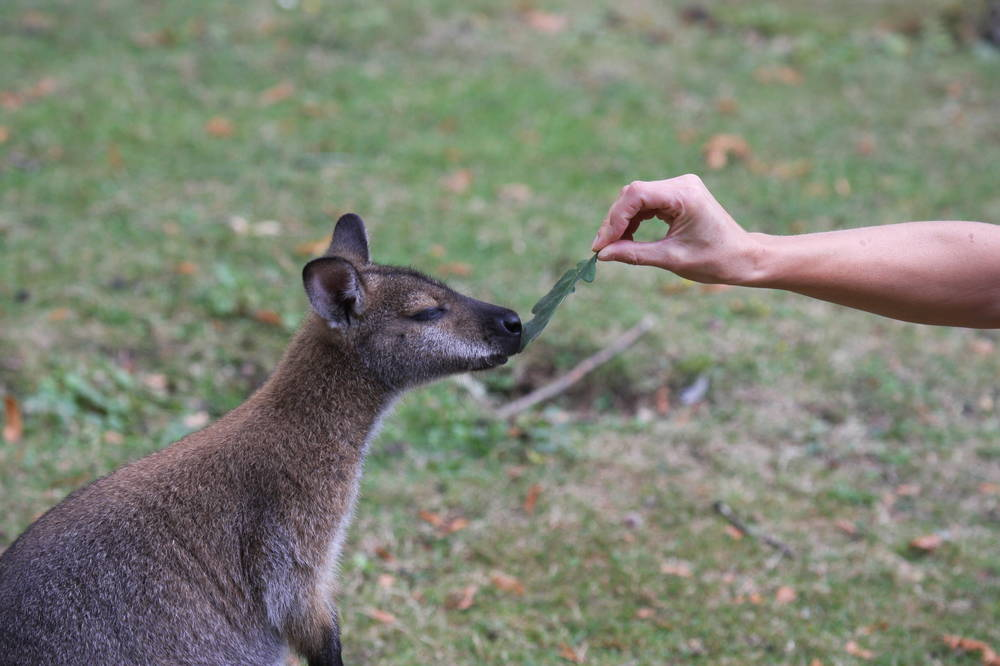kangaroo: (2, 214, 529, 666)
